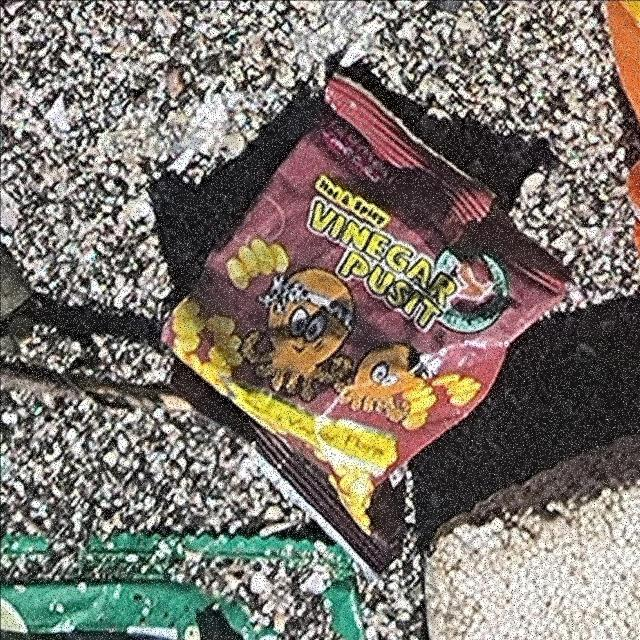plastic_waste: (161, 72, 570, 582)
